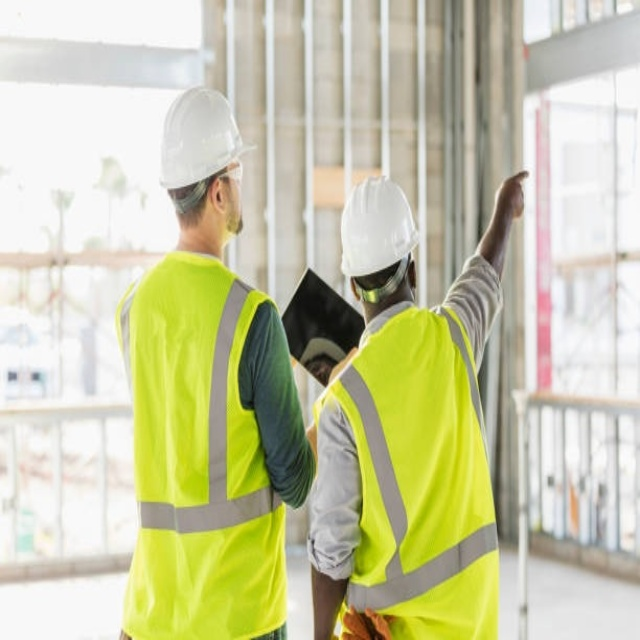Gafas: (214, 157, 244, 191)
Sin_guantes: (497, 169, 531, 221)
